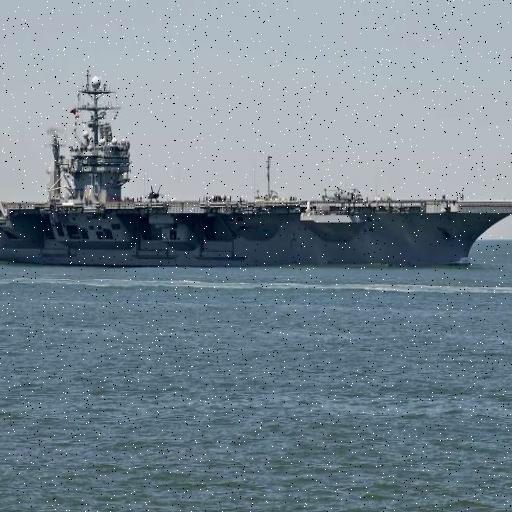Portanaves: (1, 62, 512, 273)
